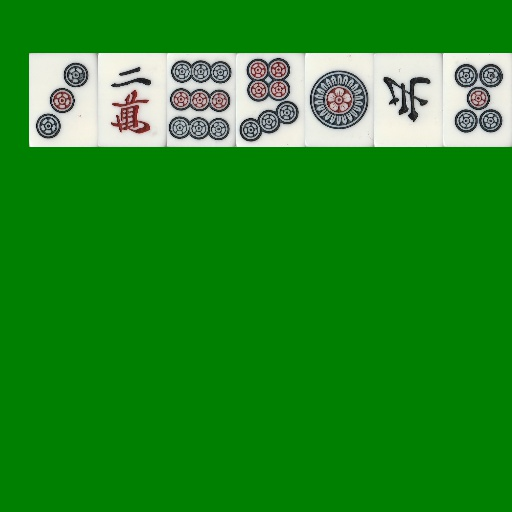1p: (305, 53, 374, 147)
2m: (98, 53, 167, 147)
3p: (29, 53, 98, 147)
5p: (443, 53, 512, 147)
7p: (236, 53, 305, 147)
9p: (167, 53, 236, 147)
north: (374, 53, 443, 147)
